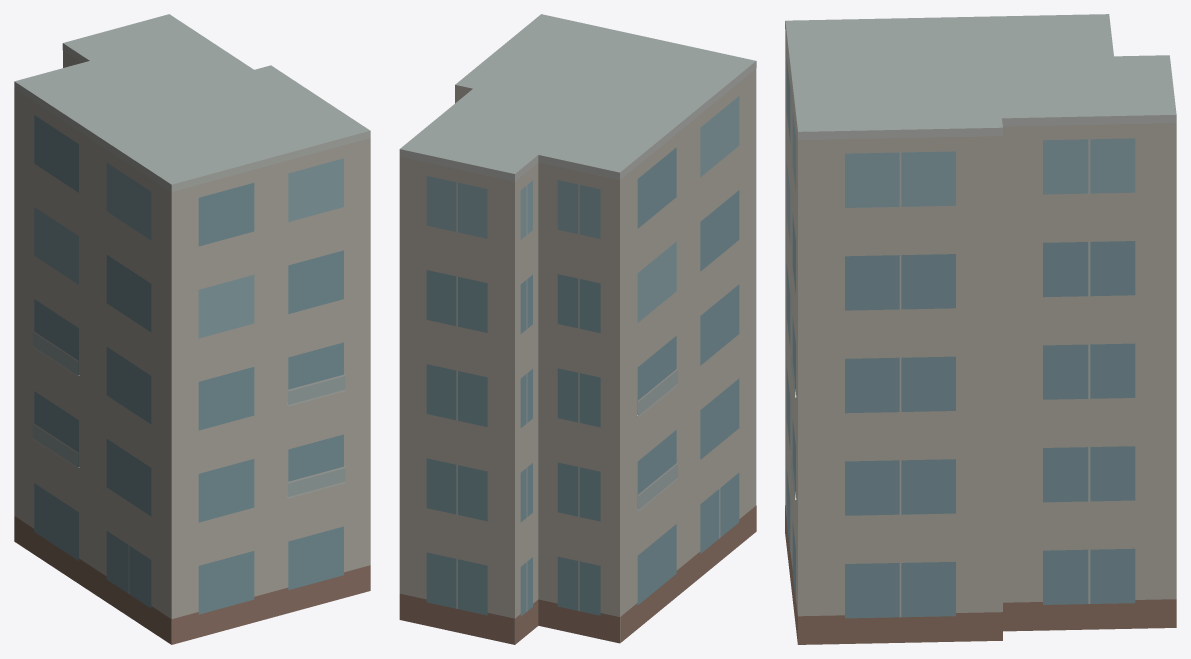
File: survey-upis-32615257.glb
3 renders of one model, left to right at view 1: azimuth 30°, elevation 25°; view 2: azimuth 150°, elevation 25°; view 3: azimuth 270°, elevation 25°, orthographic. The views are drawn at different scales.
Visible parts, largest first — view 1: survey-upis-32615257.tmp; view 2: survey-upis-32615257.tmp; view 3: survey-upis-32615257.tmp.
Part boxes in pixels (left/top/right/bottom): survey-upis-32615257.tmp: left=14, top=14, right=370, bottom=644; survey-upis-32615257.tmp: left=399, top=14, right=756, bottom=644; survey-upis-32615257.tmp: left=785, top=14, right=1176, bottom=644.
Size of the model in its own units: 7.52 by 15.25 by 10.55.
